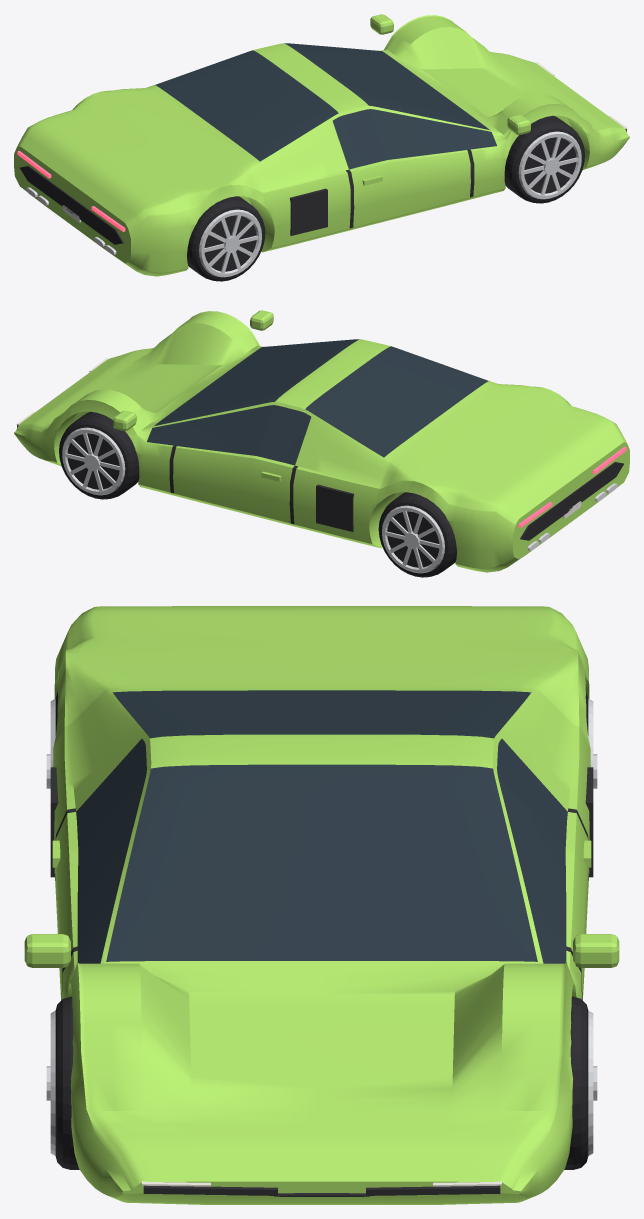
File: lamborgini_hurakan.fbx
3 renders of one model, top to bottom at view 1: azimuth 30°, elevation 25°; view 2: azimuth 150°, elevation 25°; view 3: azimuth 270°, elevation 25°, orthographic. The views are drawn at different scales.
Parts seen in each view (by area): view 1: Body.016, Glass.016, Tire.016, Trim.016, Rim.016, TailLight.016; view 2: Body.016, Glass.016, Tire.016, Rim.016, Trim.016, TailLight.016; view 3: Body.016, Glass.016, Tire.016, Trim.016, Rim.016.
Part boxes in pixels (bbox=[...]): Body.016: bbox=[14, 14, 629, 276]; Glass.016: bbox=[155, 43, 496, 169]; Tire.016: bbox=[187, 115, 584, 281]; Trim.016: bbox=[20, 129, 626, 271]; Rim.016: bbox=[199, 131, 581, 277]; TailLight.016: bbox=[17, 151, 125, 231]; Body.016: bbox=[14, 310, 629, 572]; Glass.016: bbox=[147, 339, 488, 465]; Tire.016: bbox=[59, 411, 456, 577]; Rim.016: bbox=[62, 427, 444, 573]; Trim.016: bbox=[17, 425, 623, 566]; TailLight.016: bbox=[518, 447, 626, 527]; Body.016: bbox=[24, 606, 619, 1204]; Glass.016: bbox=[76, 690, 567, 963]; Tire.016: bbox=[55, 692, 588, 1169]; Trim.016: bbox=[50, 767, 593, 1196]; Rim.016: bbox=[46, 698, 597, 1155].
Size of the model in its own units: 1534 by 350 by 771.
